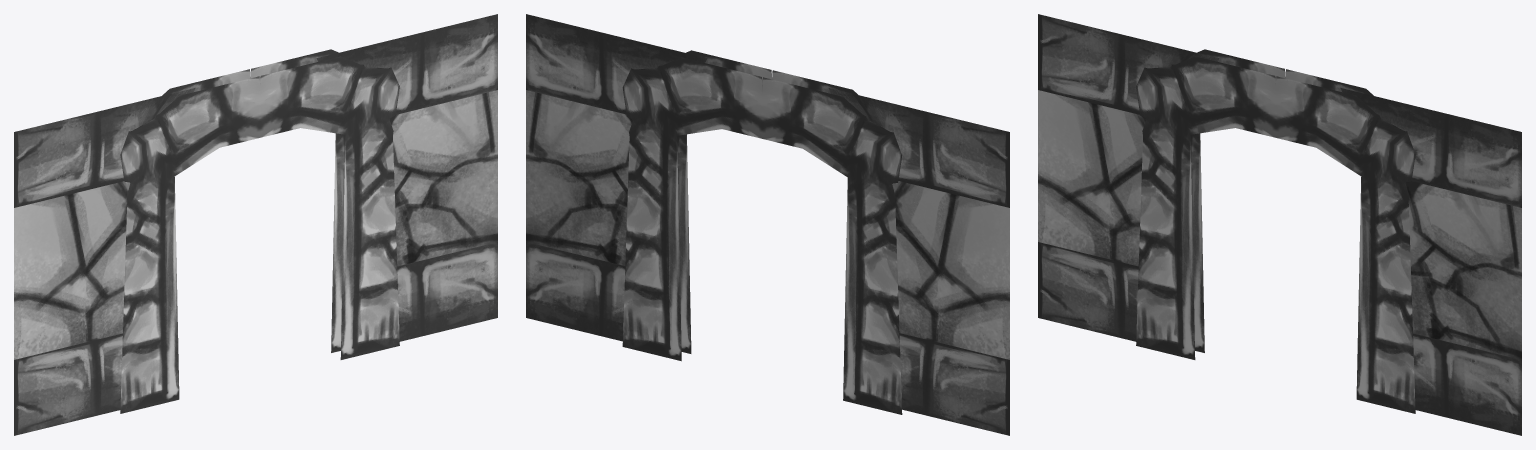
The model's file is DoorWall.fbx.
3 renders of one model, left to right at view 1: azimuth 30°, elevation 25°; view 2: azimuth 150°, elevation 25°; view 3: azimuth 330°, elevation 25°, orthographic.
Visible parts, largest first — view 1: DoorWall, DoorFrame, DoorFrame.001; view 2: DoorWall, DoorFrame.001, DoorFrame; view 3: DoorWall, DoorFrame, DoorFrame.001.
Boxes of the visible parts, x1,y1,x2,y2 form: DoorWall: [14, 14, 497, 435]; DoorFrame: [120, 56, 399, 413]; DoorFrame.001: [162, 49, 345, 352]; DoorWall: [526, 14, 1009, 435]; DoorFrame.001: [622, 57, 902, 414]; DoorFrame: [677, 50, 857, 353]; DoorWall: [1038, 14, 1521, 435]; DoorFrame: [1136, 56, 1415, 413]; DoorFrame.001: [1190, 49, 1373, 352].
Bounding box in the file's own units: 5 × 0.1726 × 3.
1 material, 1 textured.
